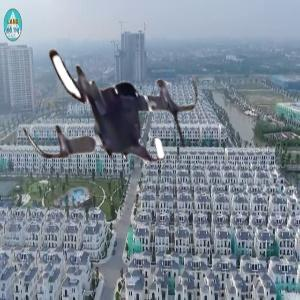drone: (15, 4, 206, 195)
